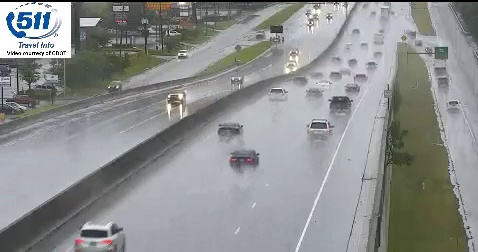car: (75, 222, 126, 252), (230, 149, 259, 169), (308, 119, 332, 138), (218, 122, 241, 139), (329, 96, 351, 113)
